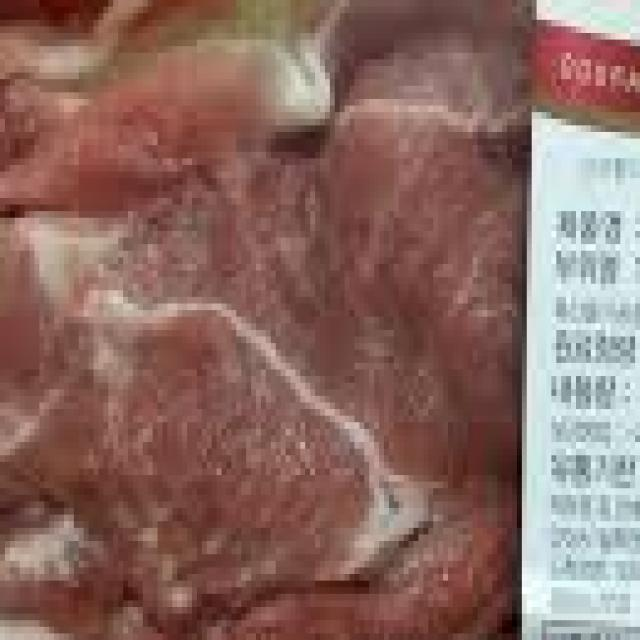meat: (0, 0, 512, 640)
